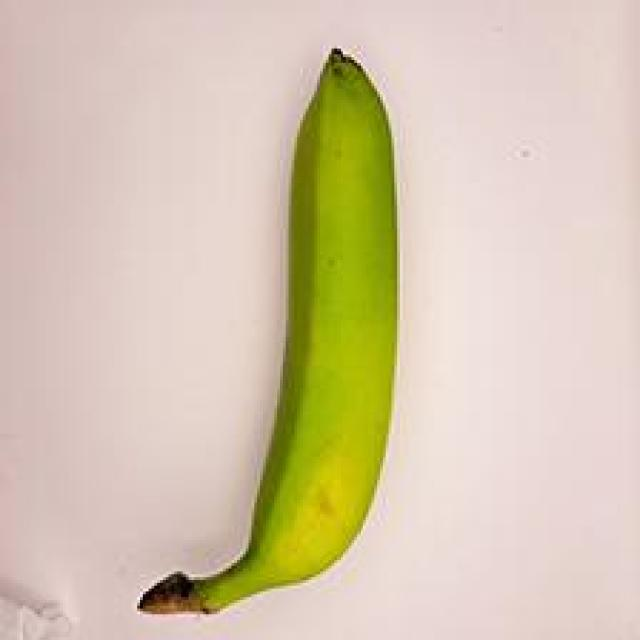Unripe: (134, 30, 430, 627)
